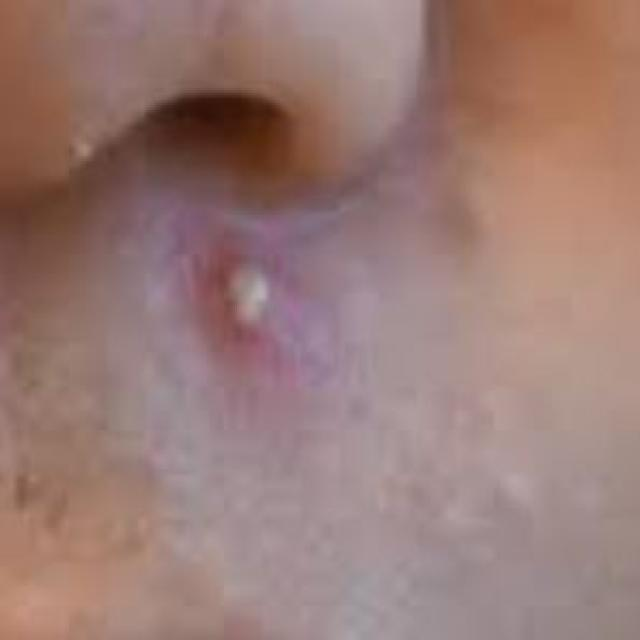pustule: (190, 249, 309, 352)
